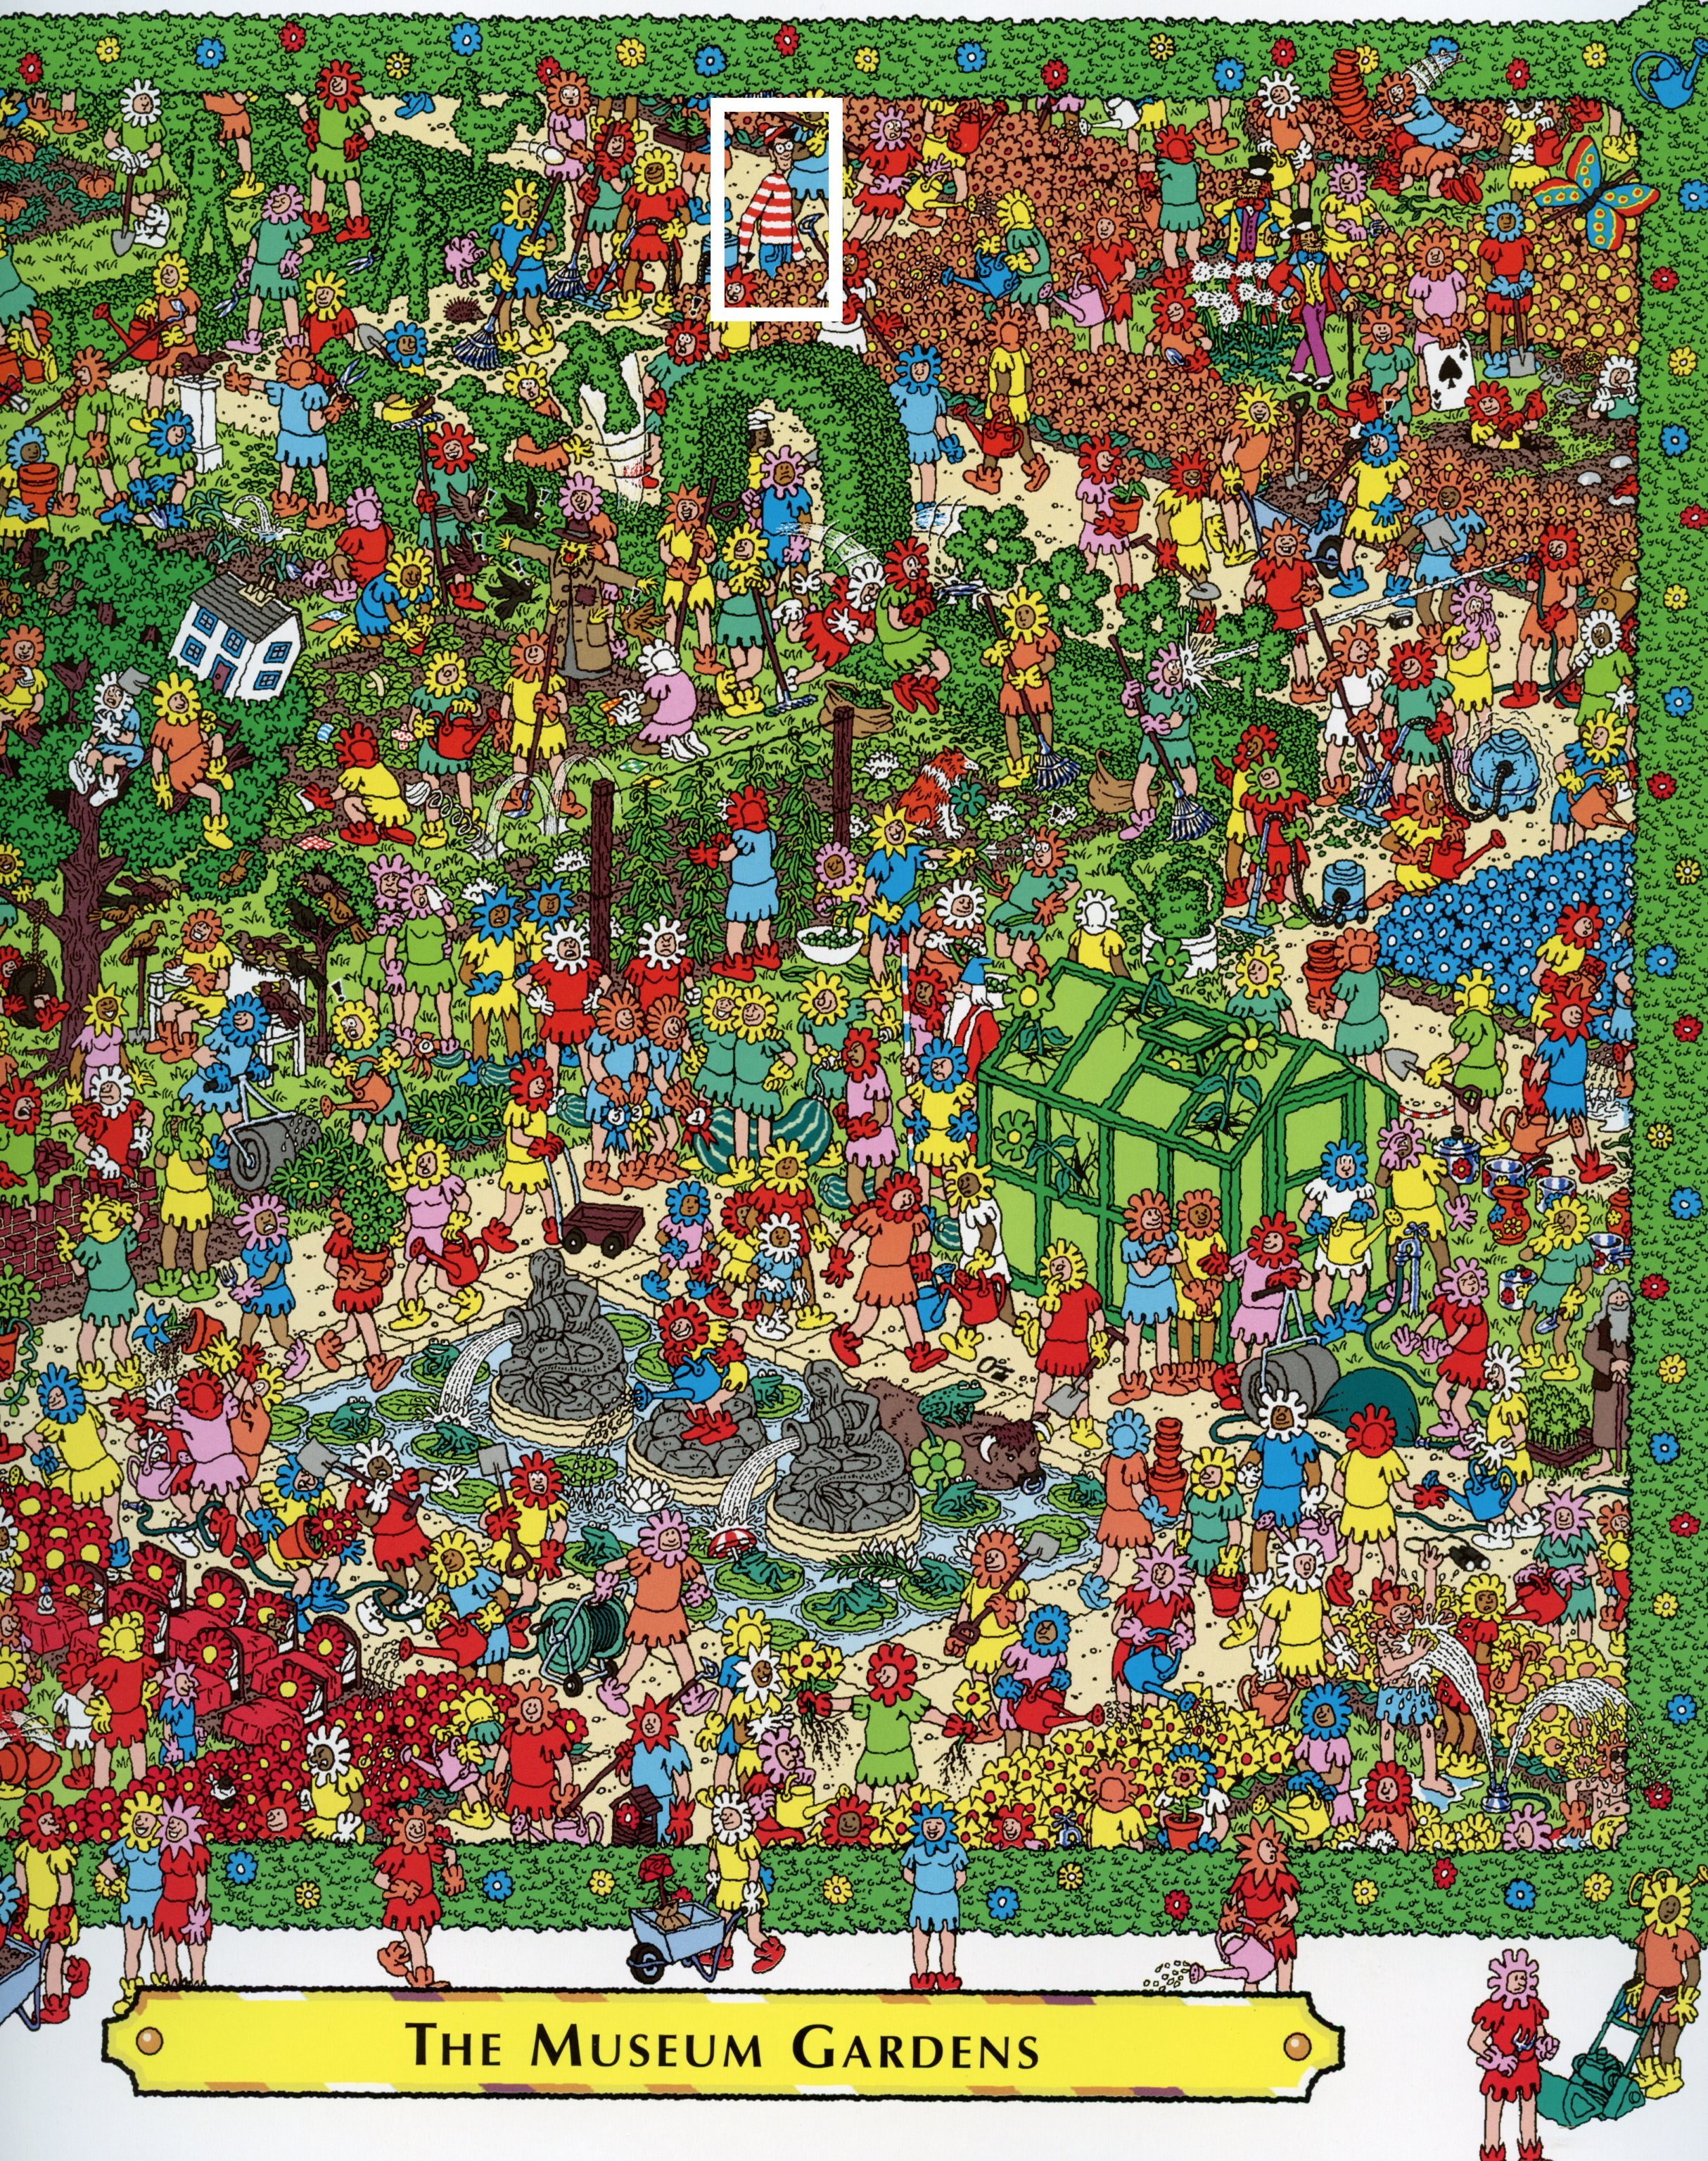waldo: (722, 100, 840, 319)
